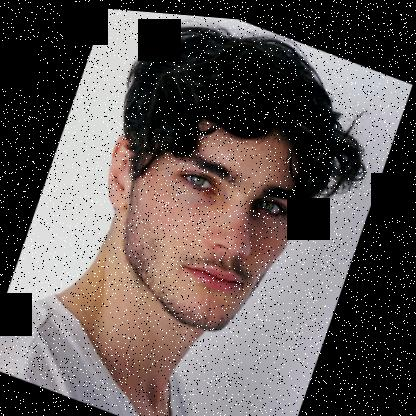Male: (70, 65, 327, 346)
